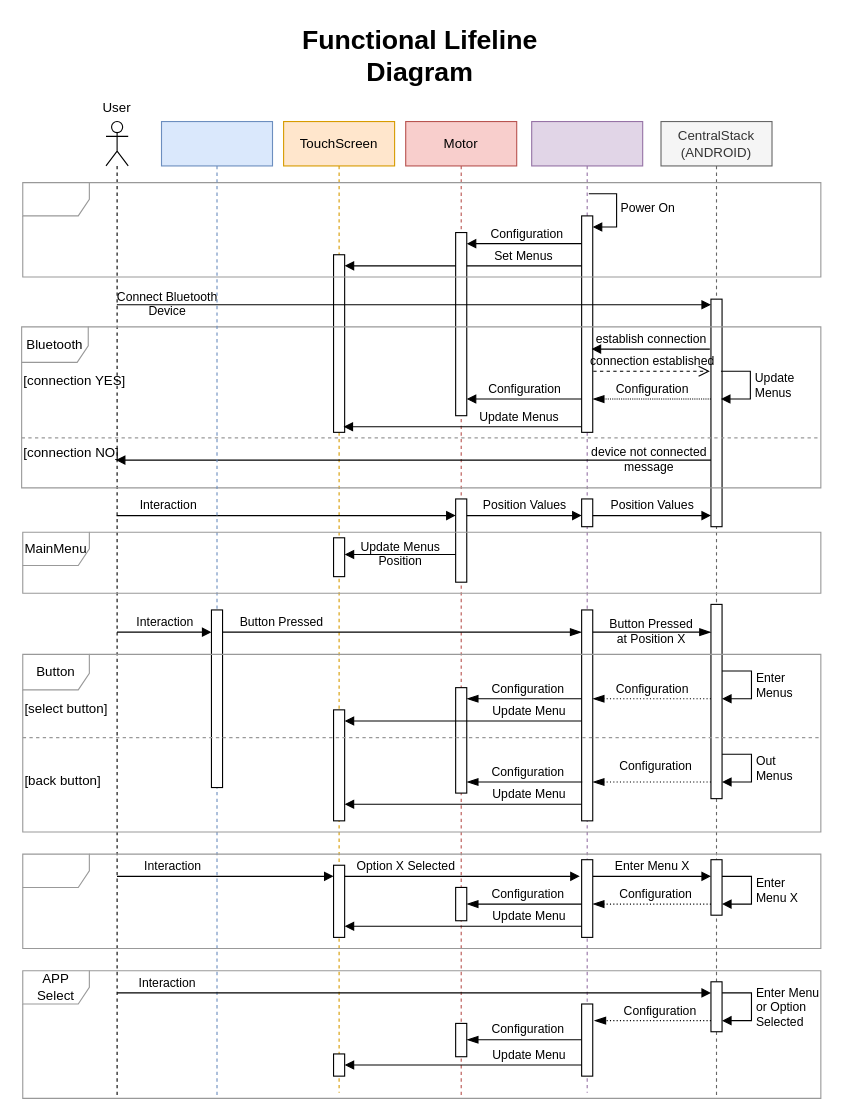
This 841x1118 diagram has some shape labels left out. Here are the shapes that lost their labels. From the top down, the centre of each, then its label:
At [421,229]: "Turning On".
At [216,608]: "Buttons".
At [587,606]: "ESP32".
At [421,900]: "TouchOption".
